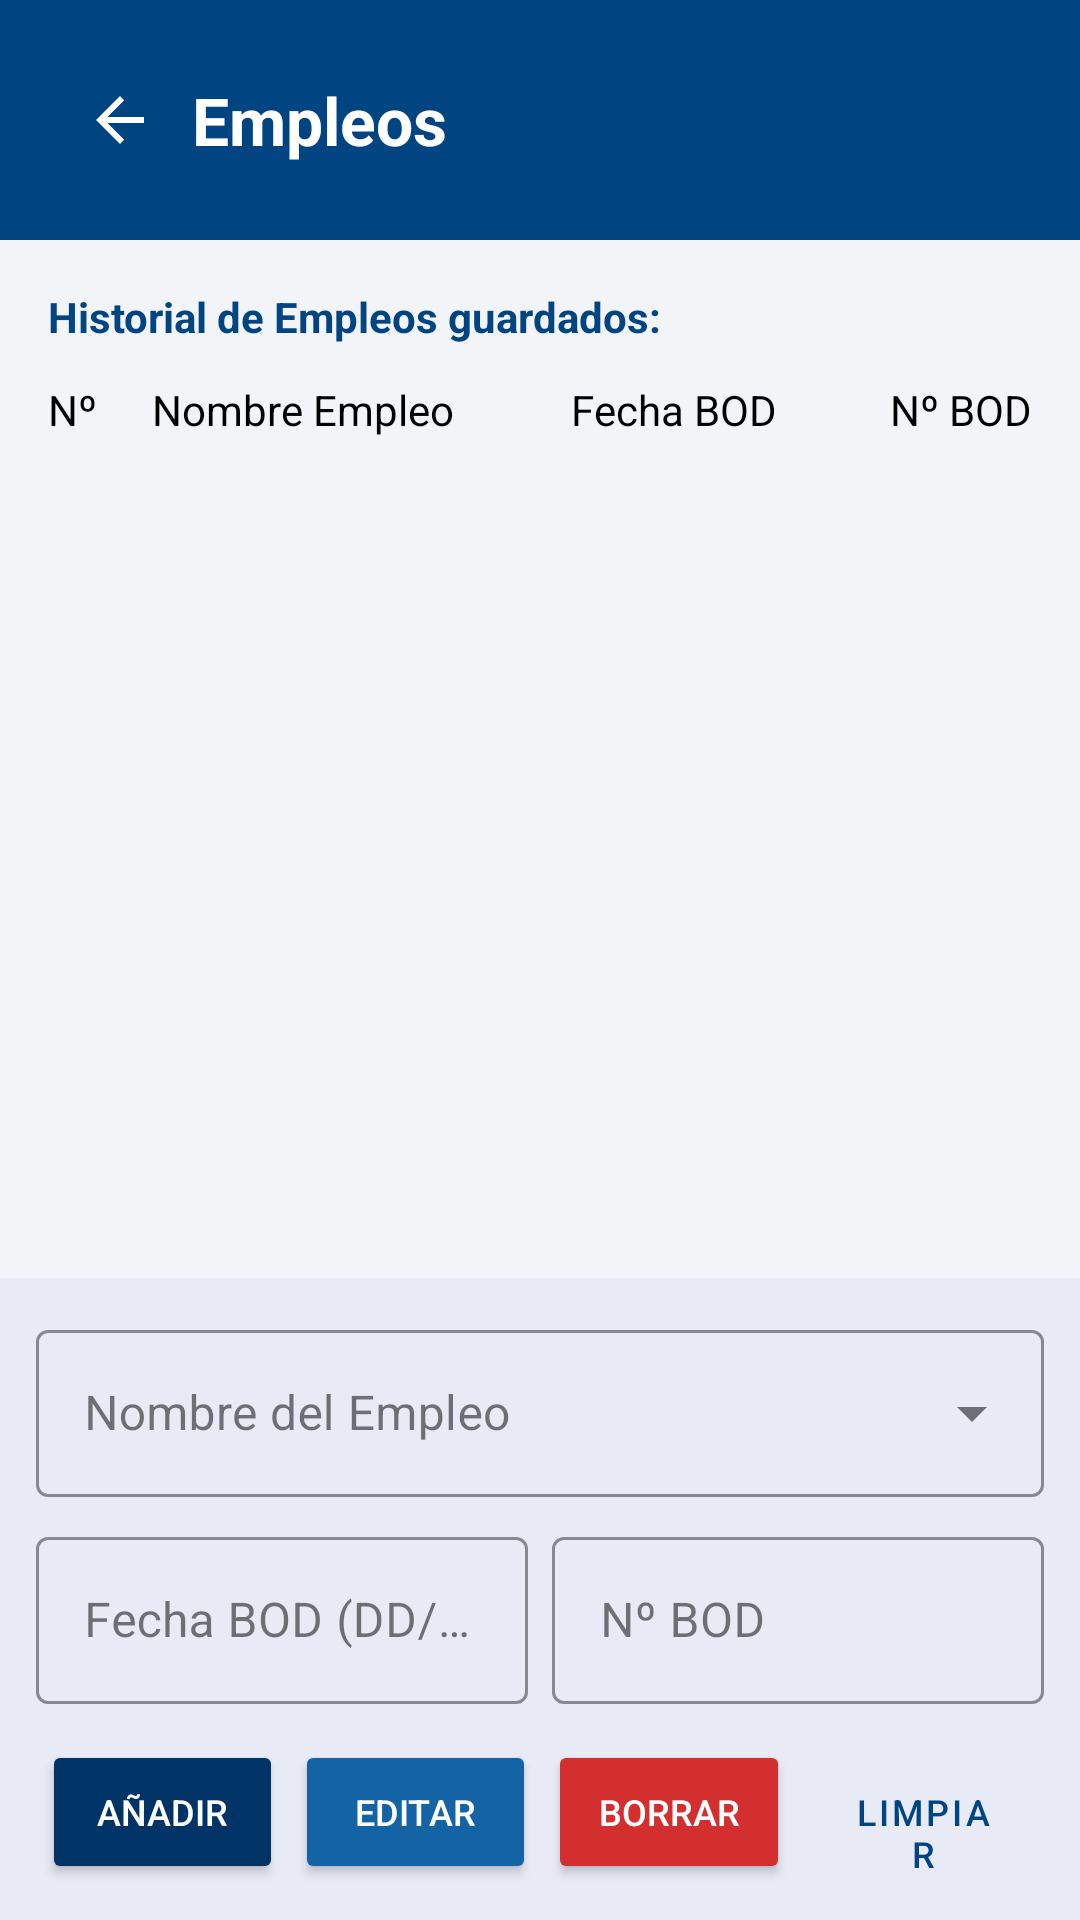

Named icons in this screenshot (1080px×1920px) and their bounding boxes, (x1, y1, x2, y2):
Volver: (96, 96, 144, 144)
